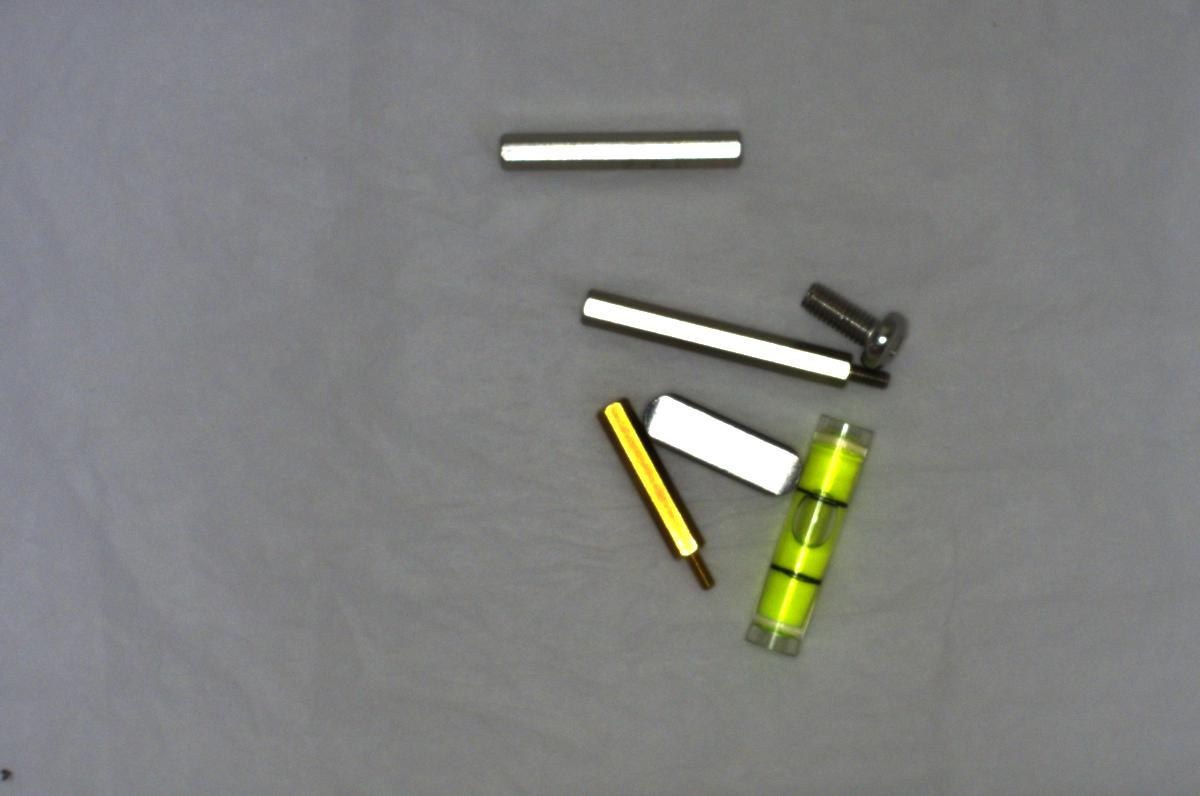Double hexagonal column: (488, 114, 757, 183)
Hexagon pillar: (600, 395, 720, 590)
Hexagonal steel column: (579, 285, 898, 390)
Horizontal bubble: (733, 399, 878, 658)
Keybar: (634, 394, 805, 495)
Round head screw: (802, 273, 910, 359)
